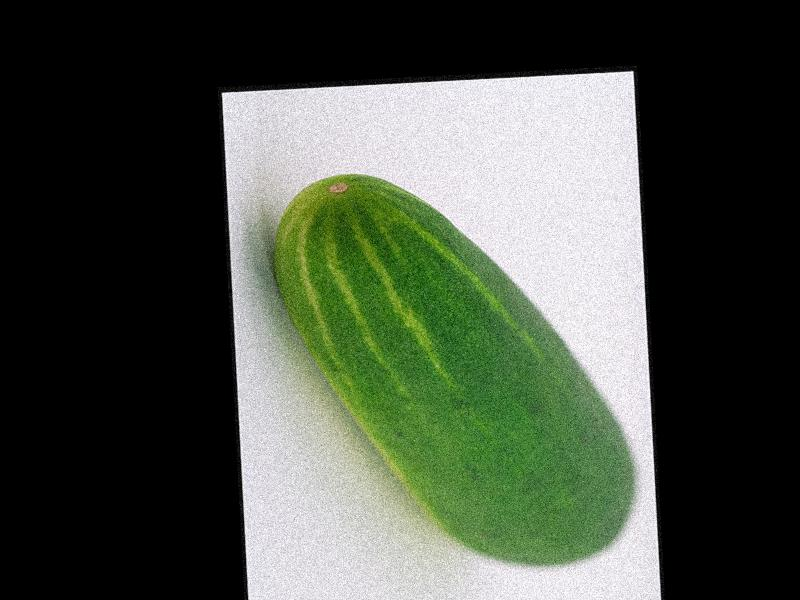Cucumber: (270, 160, 639, 579)
